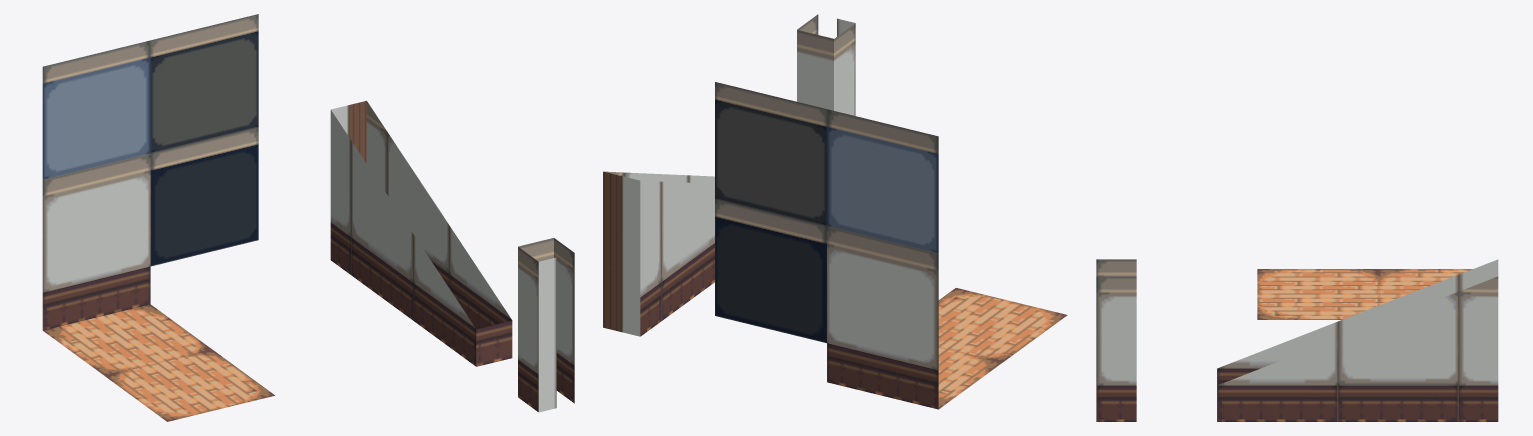
The model's file is Bakery.fbx.
The picture shows the model from 3 angles, left to right: view 1: azimuth 30°, elevation 25°; view 2: azimuth 150°, elevation 25°; view 3: azimuth 270°, elevation 25°; orthographic projection. The views are drawn at different scales.
Parts seen in each view (by area): view 1: Cube.009, Cube.008, Cube.007, Cube.006, Cube.004, Cube.002, Cube.003, Cube.005; view 2: Cube.009, Cube.004, Cube.007, Cube.006, Cube.008, Cube.003, Cube.005, Cube.002; view 3: Cube.009, Cube.003, Cube.002.
Part boxes in pixels (x1,y1,x2,y2): Cube.009: [330, 100, 574, 412]; Cube.008: [150, 127, 258, 266]; Cube.007: [42, 40, 150, 179]; Cube.006: [150, 14, 258, 153]; Cube.004: [42, 153, 150, 292]; Cube.002: [43, 304, 212, 376]; Cube.003: [105, 350, 274, 421]; Cube.005: [42, 266, 150, 330]; Cube.009: [603, 14, 855, 336]; Cube.004: [827, 226, 938, 370]; Cube.007: [827, 109, 938, 253]; Cube.006: [715, 82, 826, 225]; Cube.008: [715, 199, 826, 343]; Cube.003: [938, 288, 1067, 361]; Cube.005: [827, 343, 938, 409]; Cube.002: [938, 346, 1002, 408]; Cube.009: [1096, 259, 1498, 421]; Cube.003: [1257, 269, 1377, 319]; Cube.002: [1378, 269, 1472, 305].
Size of the model in its own units: 950 by 700 by 1050.
